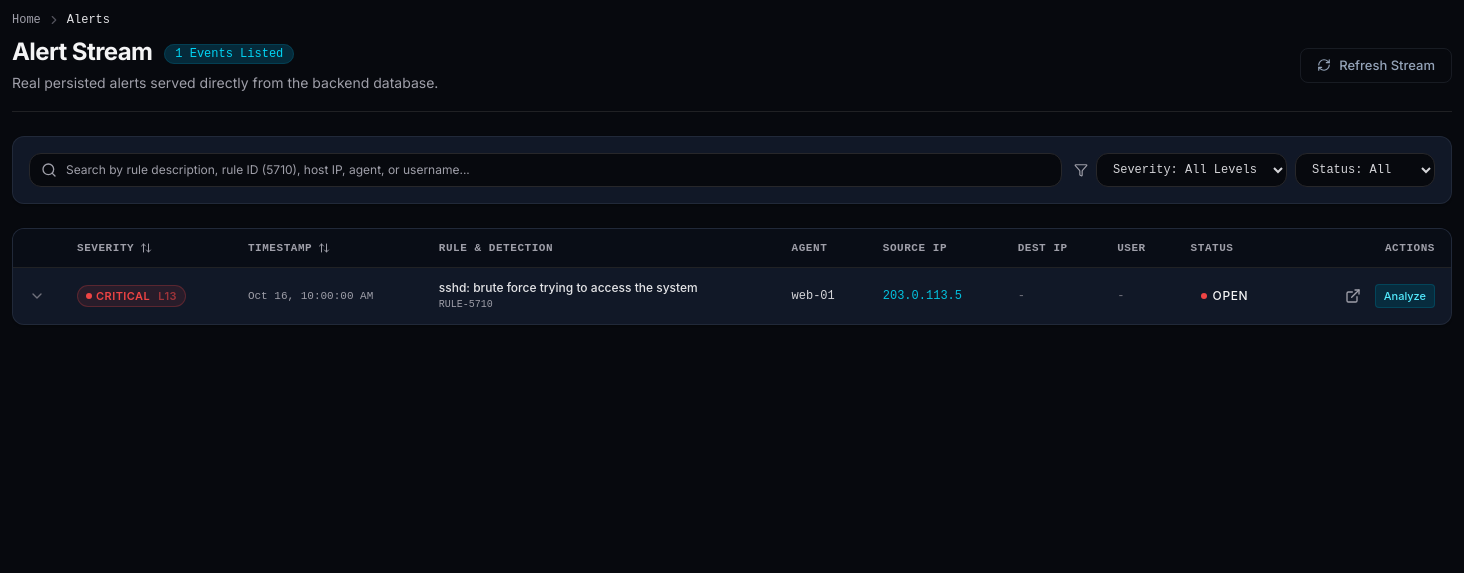
it: Alerts page › shows the no-matching-results state when filters exclude everything
This screenshot has width=1464, height=573.
Check: the text "sshd: brute force trying to access the system" is shown, box [439,280,698,295]
// Filter for a term that matches nothing via the search box.
Type "zzz-no-match-zzz" into the field with placeholder "Search by rule description". click: (546, 170)
box: [29,153,1062,187]
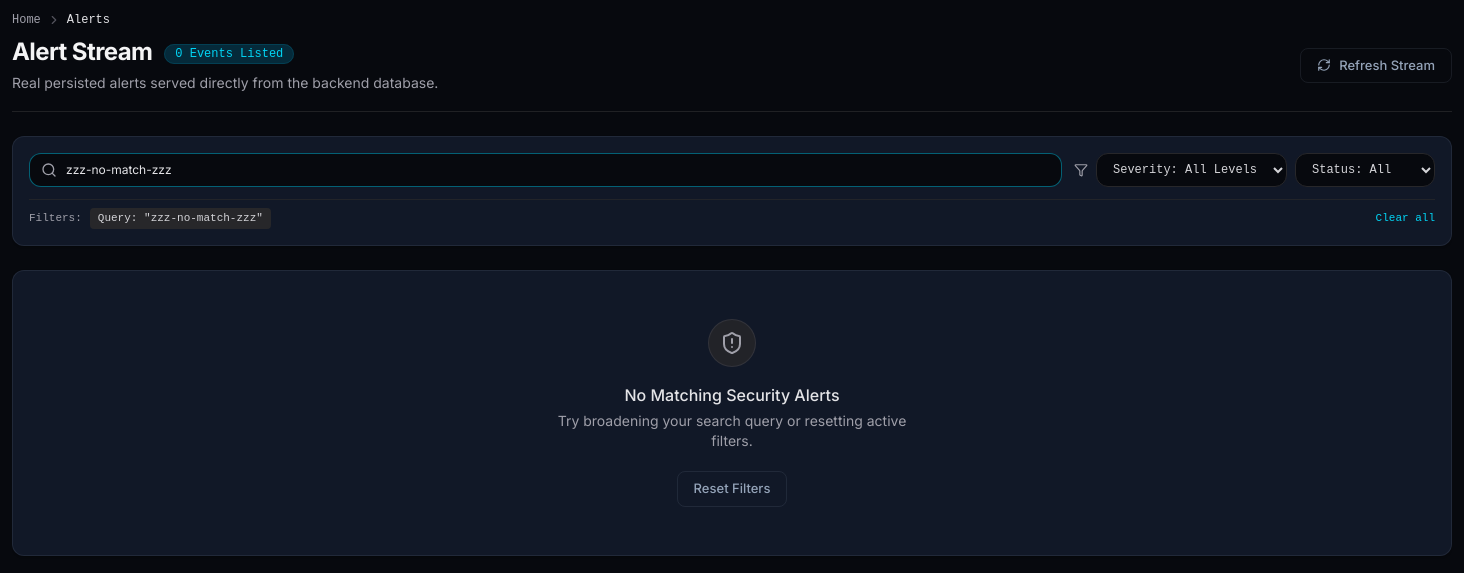
Check: the heading "No Matching Security Alerts" is shown, box [624,383,840,407]
